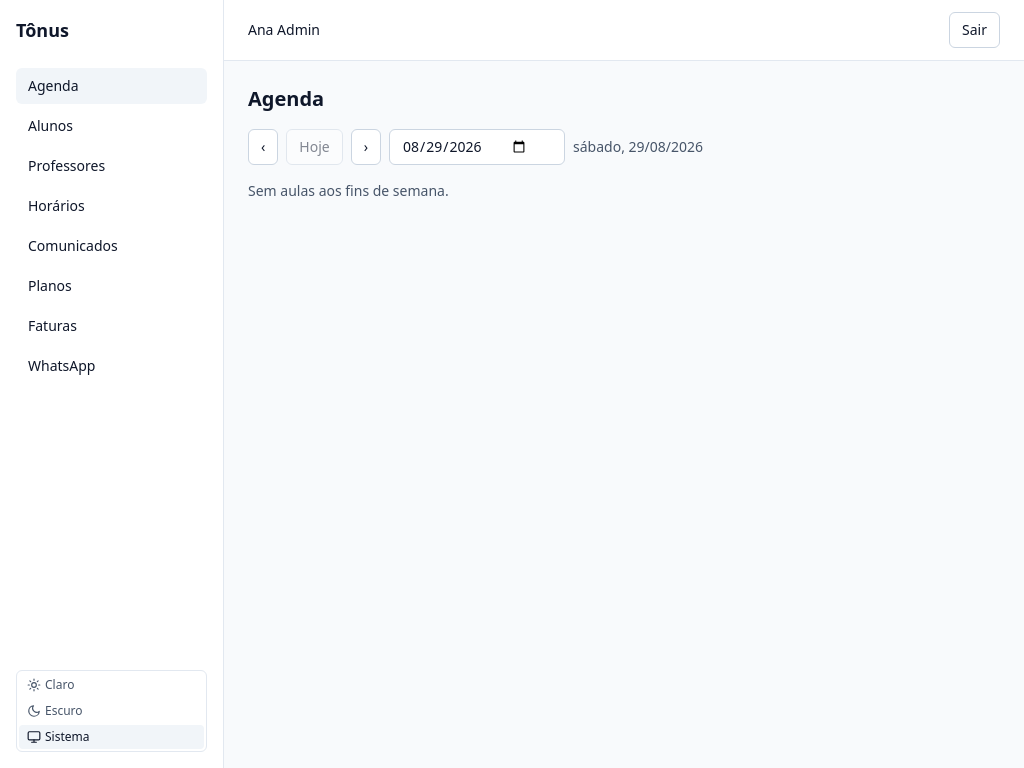
sessão › no logout limpa todo o cache do Query e volta para o login
Check: the link "Alunos" is shown, box [28,116,73,135]
Click the button "Sair".
click(975, 30)  # box [949,12,1000,48]
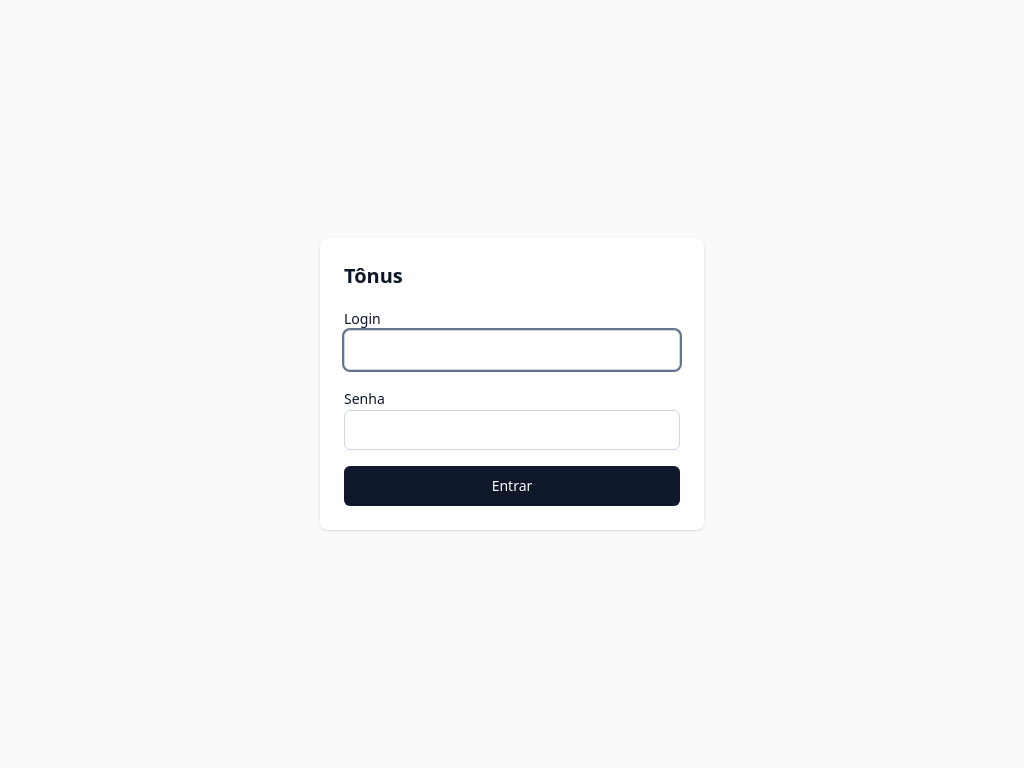
Check: the button "Entrar" is shown, box [344,466,680,506]
